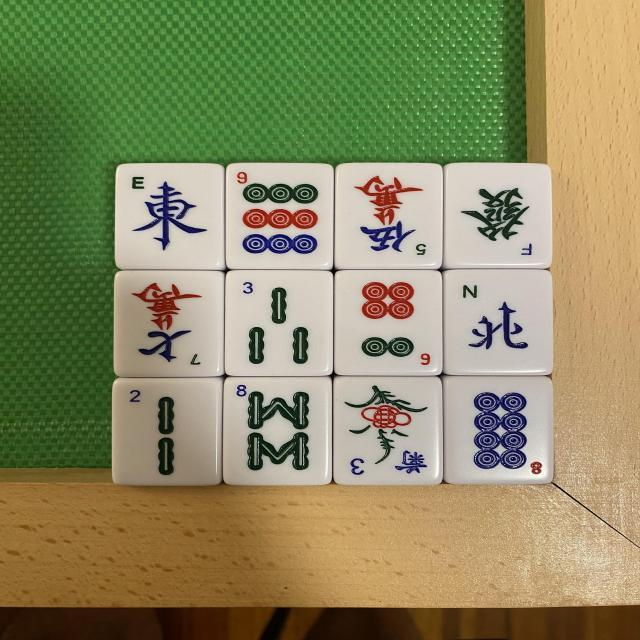bf3: (336, 377, 444, 484)
hdg: (444, 164, 552, 268)
hwe: (119, 165, 228, 271)
hwn: (444, 272, 552, 377)
sb2: (116, 378, 224, 486)
sb3: (227, 267, 333, 373)
sb8: (223, 378, 331, 486)
sc5: (334, 162, 442, 269)
sc7: (114, 272, 222, 378)
sd6: (334, 268, 441, 374)
sd8: (445, 377, 553, 482)
sd9: (226, 164, 334, 269)
